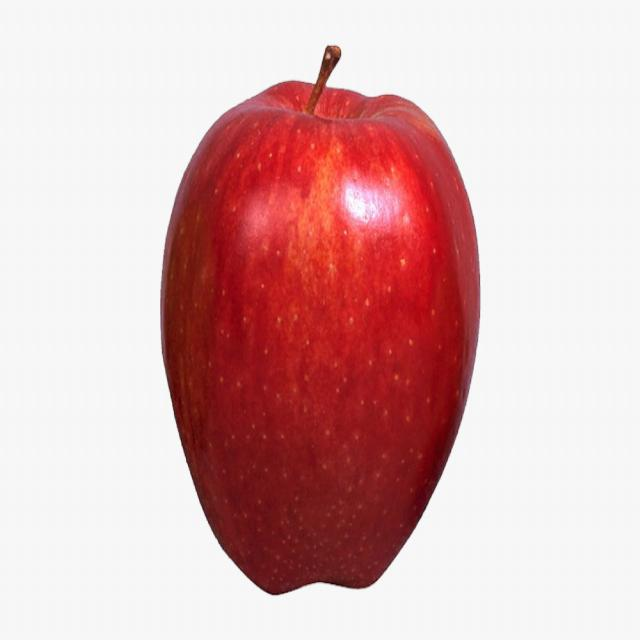Apple: (154, 43, 483, 593)
